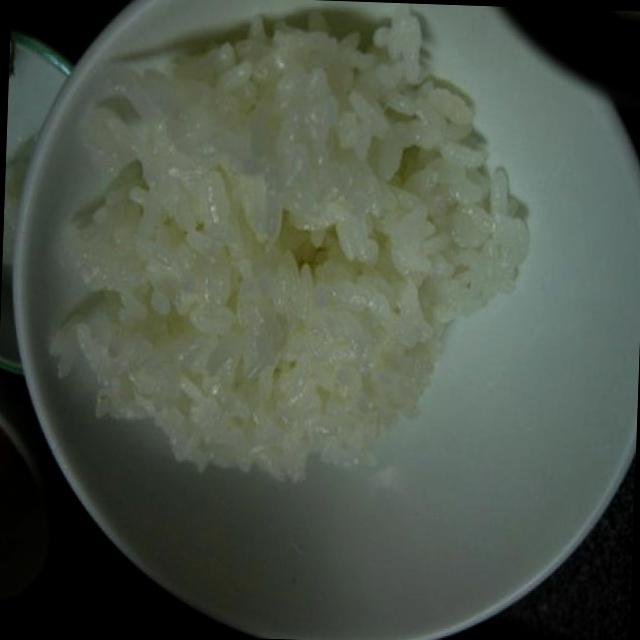Rice: (52, 31, 530, 487)
